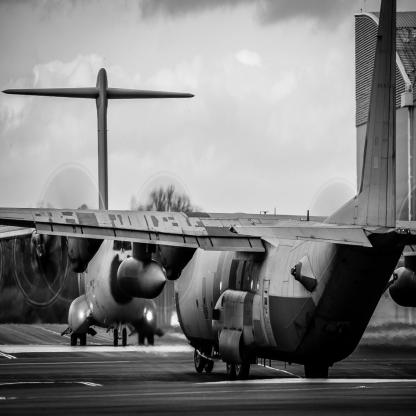A400M: (1, 68, 209, 347)
C130: (1, 2, 416, 382)
